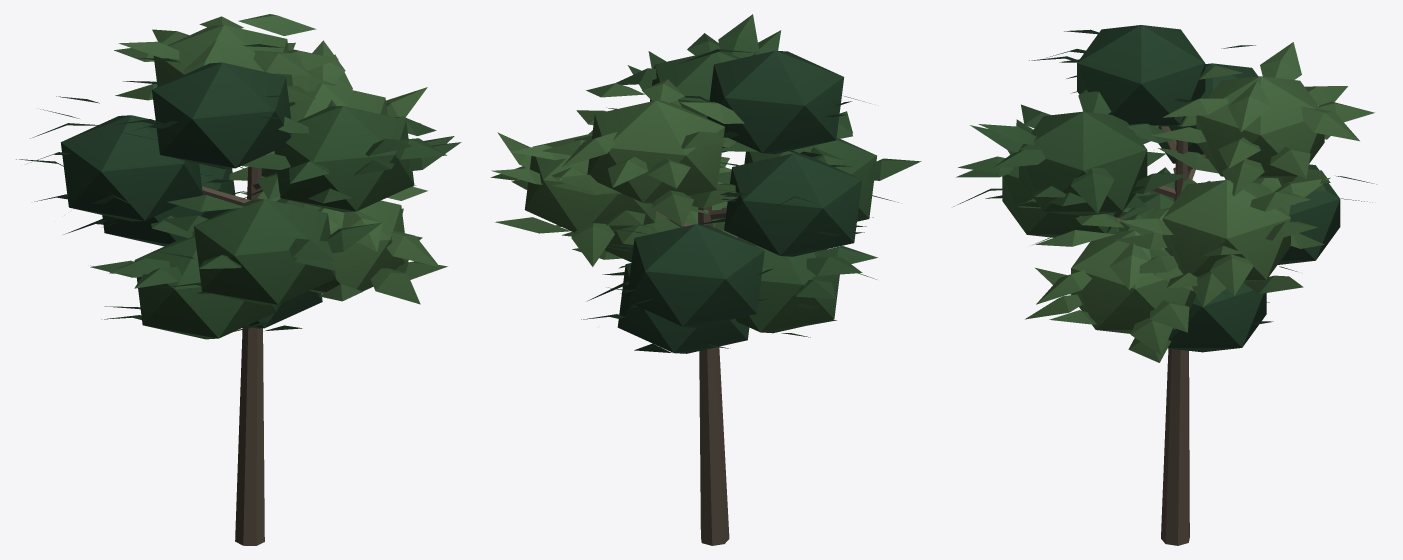
Rendered from tree-broadleaf-2-lod0.glb.
The picture shows the model from 3 angles, left to right: view 1: azimuth 30°, elevation 25°; view 2: azimuth 150°, elevation 25°; view 3: azimuth 270°, elevation 25°; orthographic projection. The views are drawn at different scales.
Parts seen in each view (by area): view 1: tree-broadleaf-2.007; view 2: tree-broadleaf-2.007; view 3: tree-broadleaf-2.007.
Boxes of the visible parts, x1,y1,x2,y2 form: tree-broadleaf-2.007: (16,14,461,545); tree-broadleaf-2.007: (490,14,921,545); tree-broadleaf-2.007: (953,25,1376,545).
Bounding box in the file's own units: 6.66 × 7.97 × 6.42.
